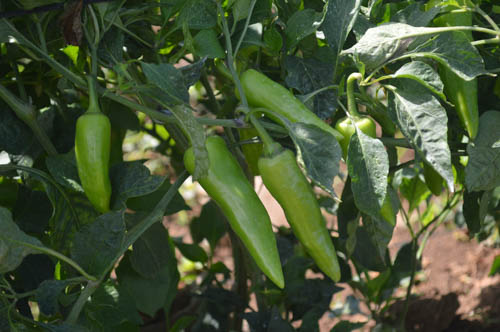ChiliPepper: (189, 134, 285, 288), (258, 149, 342, 284), (239, 70, 342, 141), (337, 115, 398, 222), (439, 13, 482, 141), (75, 115, 111, 207)
